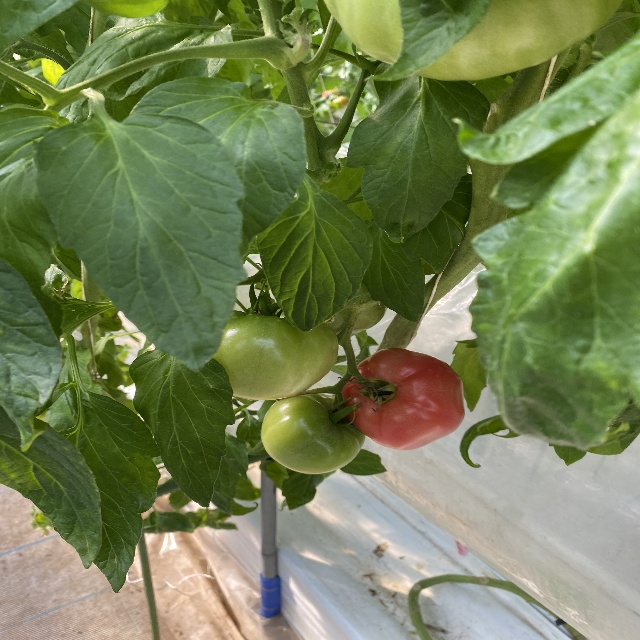b_fully_ripened: (341, 347, 465, 450)
b_green: (323, 0, 624, 82), (210, 315, 339, 401), (261, 391, 366, 475)
